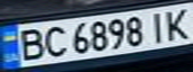6: (69, 19, 90, 55)
8: (87, 18, 112, 52), (124, 12, 148, 47)
9: (106, 16, 130, 51)
B: (12, 26, 48, 62)
C: (39, 24, 69, 58)
I: (142, 10, 172, 43)
K: (160, 6, 193, 40)
